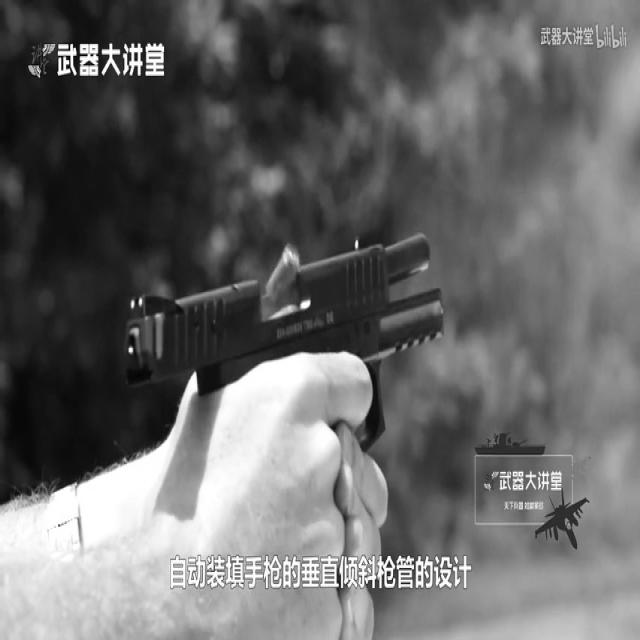Hand-Gun: (120, 173, 499, 640)
